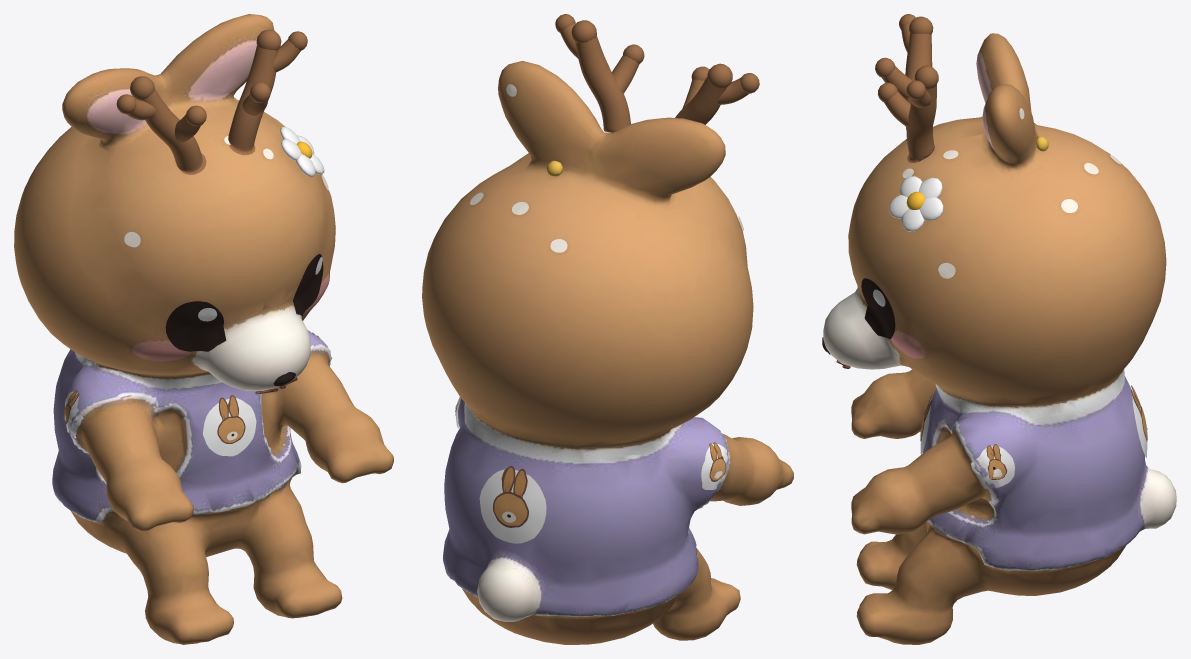
The model's file is deer.glb.
3 views of the same model, side by side, from view 1: azimuth 30°, elevation 25°; view 2: azimuth 150°, elevation 25°; view 3: azimuth 270°, elevation 25° (orthographic). The views are drawn at different scales.
Parts seen in each view (by area): view 1: chibi, face; view 2: chibi, face; view 3: chibi, face.
Boxes of the visible parts, <box> form: chibi: <box>14,14,393,644</box>; face: <box>64,29,331,456</box>; chibi: <box>422,61,793,644</box>; face: <box>455,14,759,543</box>; chibi: <box>823,33,1176,644</box>; face: <box>822,14,1147,488</box>.
Bounding box in the file's own units: 0.6791 × 1.33 × 0.753.
42 materials, 1 textured.
